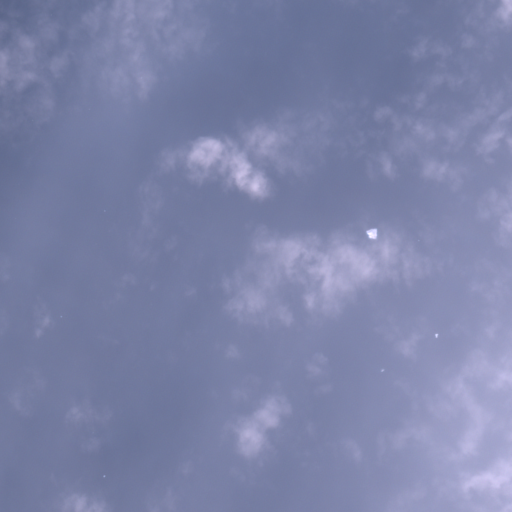Iceberg: (366, 228, 377, 238), (435, 333, 438, 337), (381, 369, 384, 371), (103, 475, 105, 476)
